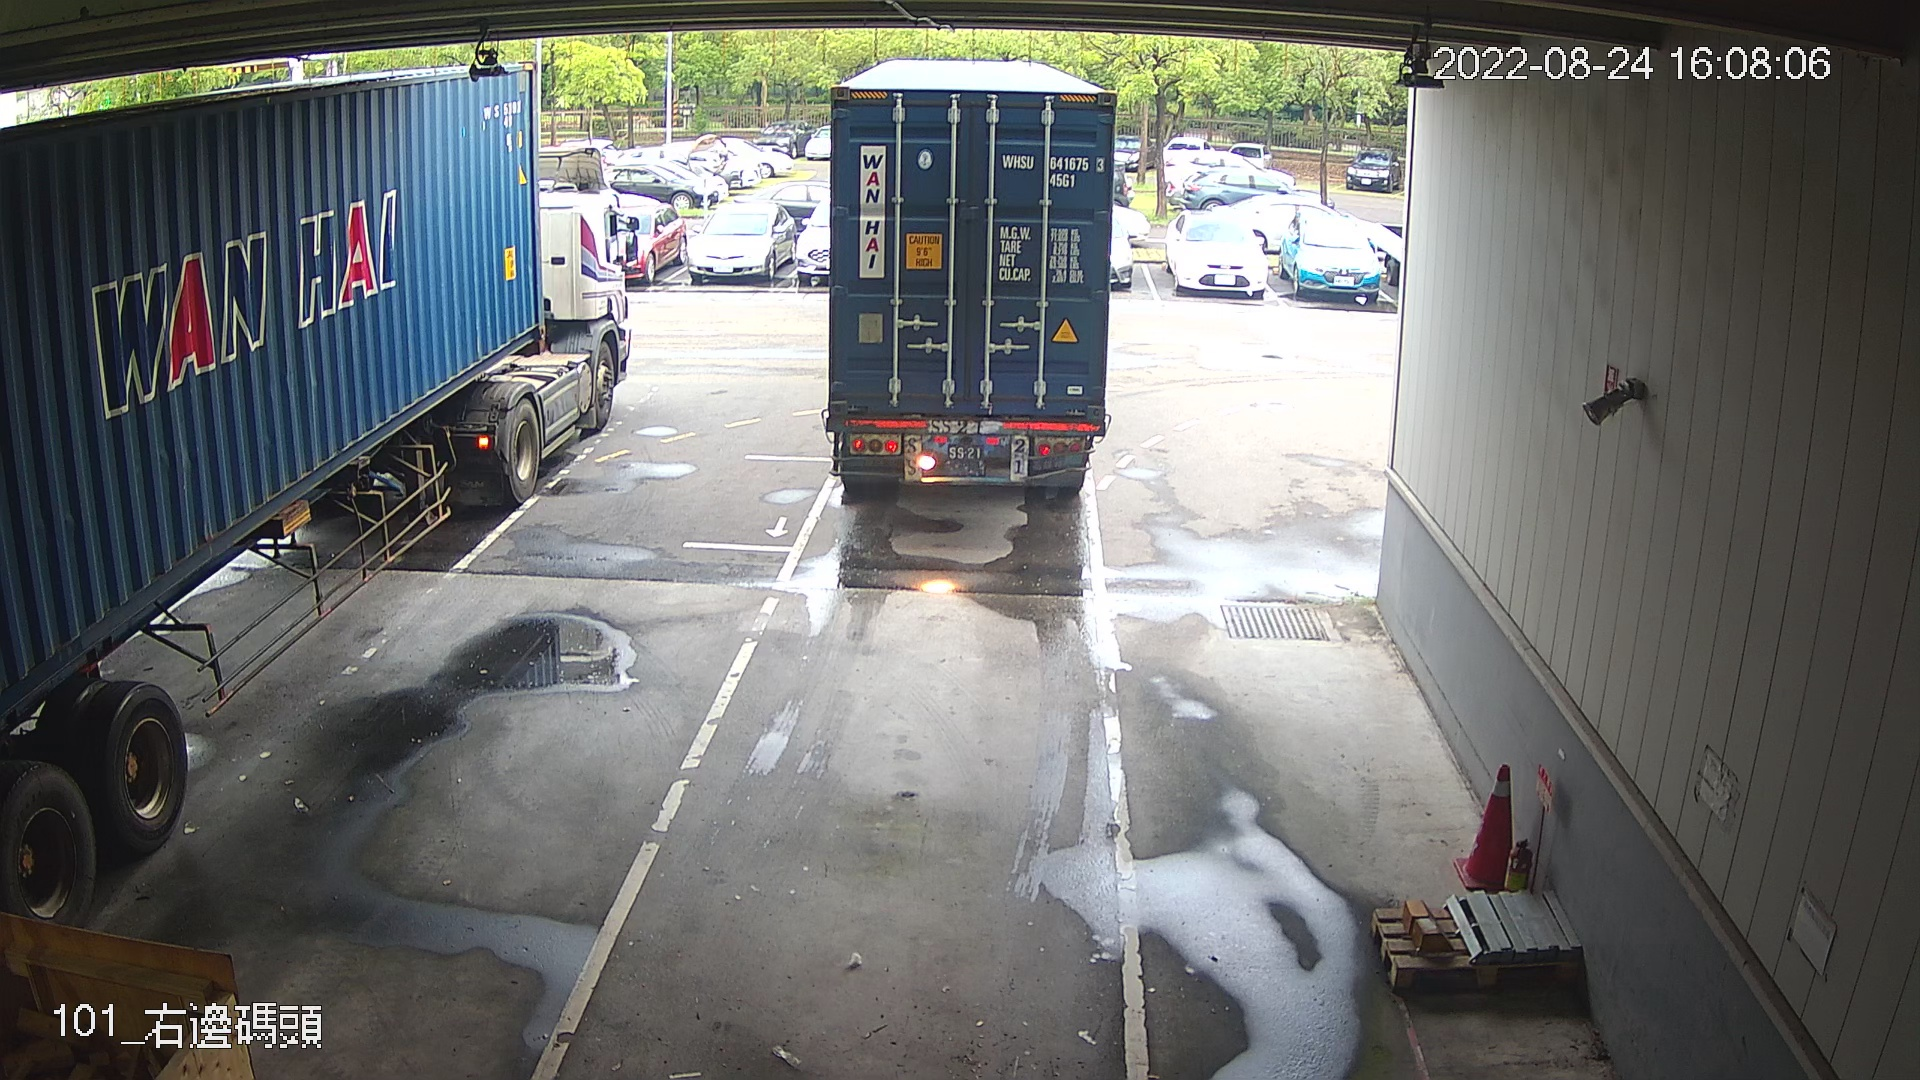container: (997, 144, 1106, 195)
